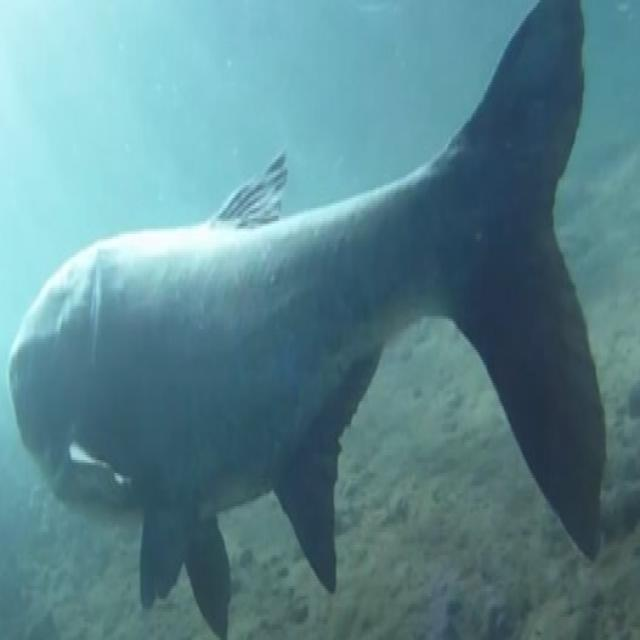Big-Head-Carp: (6, 23, 611, 614)
